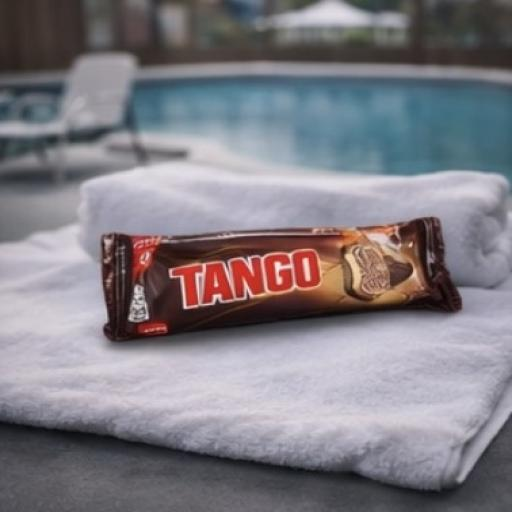tango: (85, 206, 469, 383)
